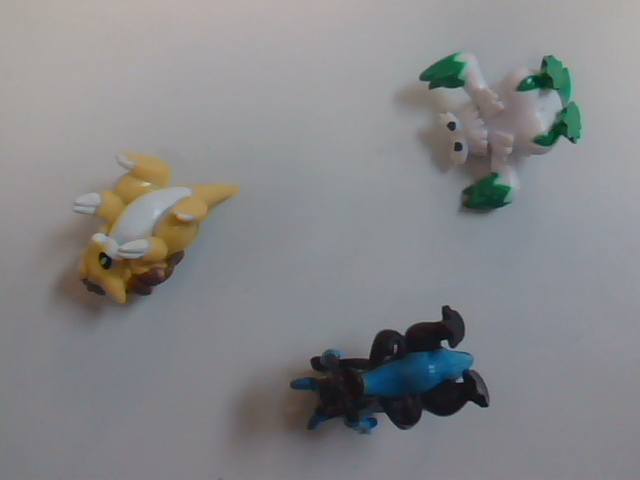abomasnow: (403, 41, 615, 235)
charizard: (287, 269, 507, 478)
sandslash: (67, 132, 249, 327)
